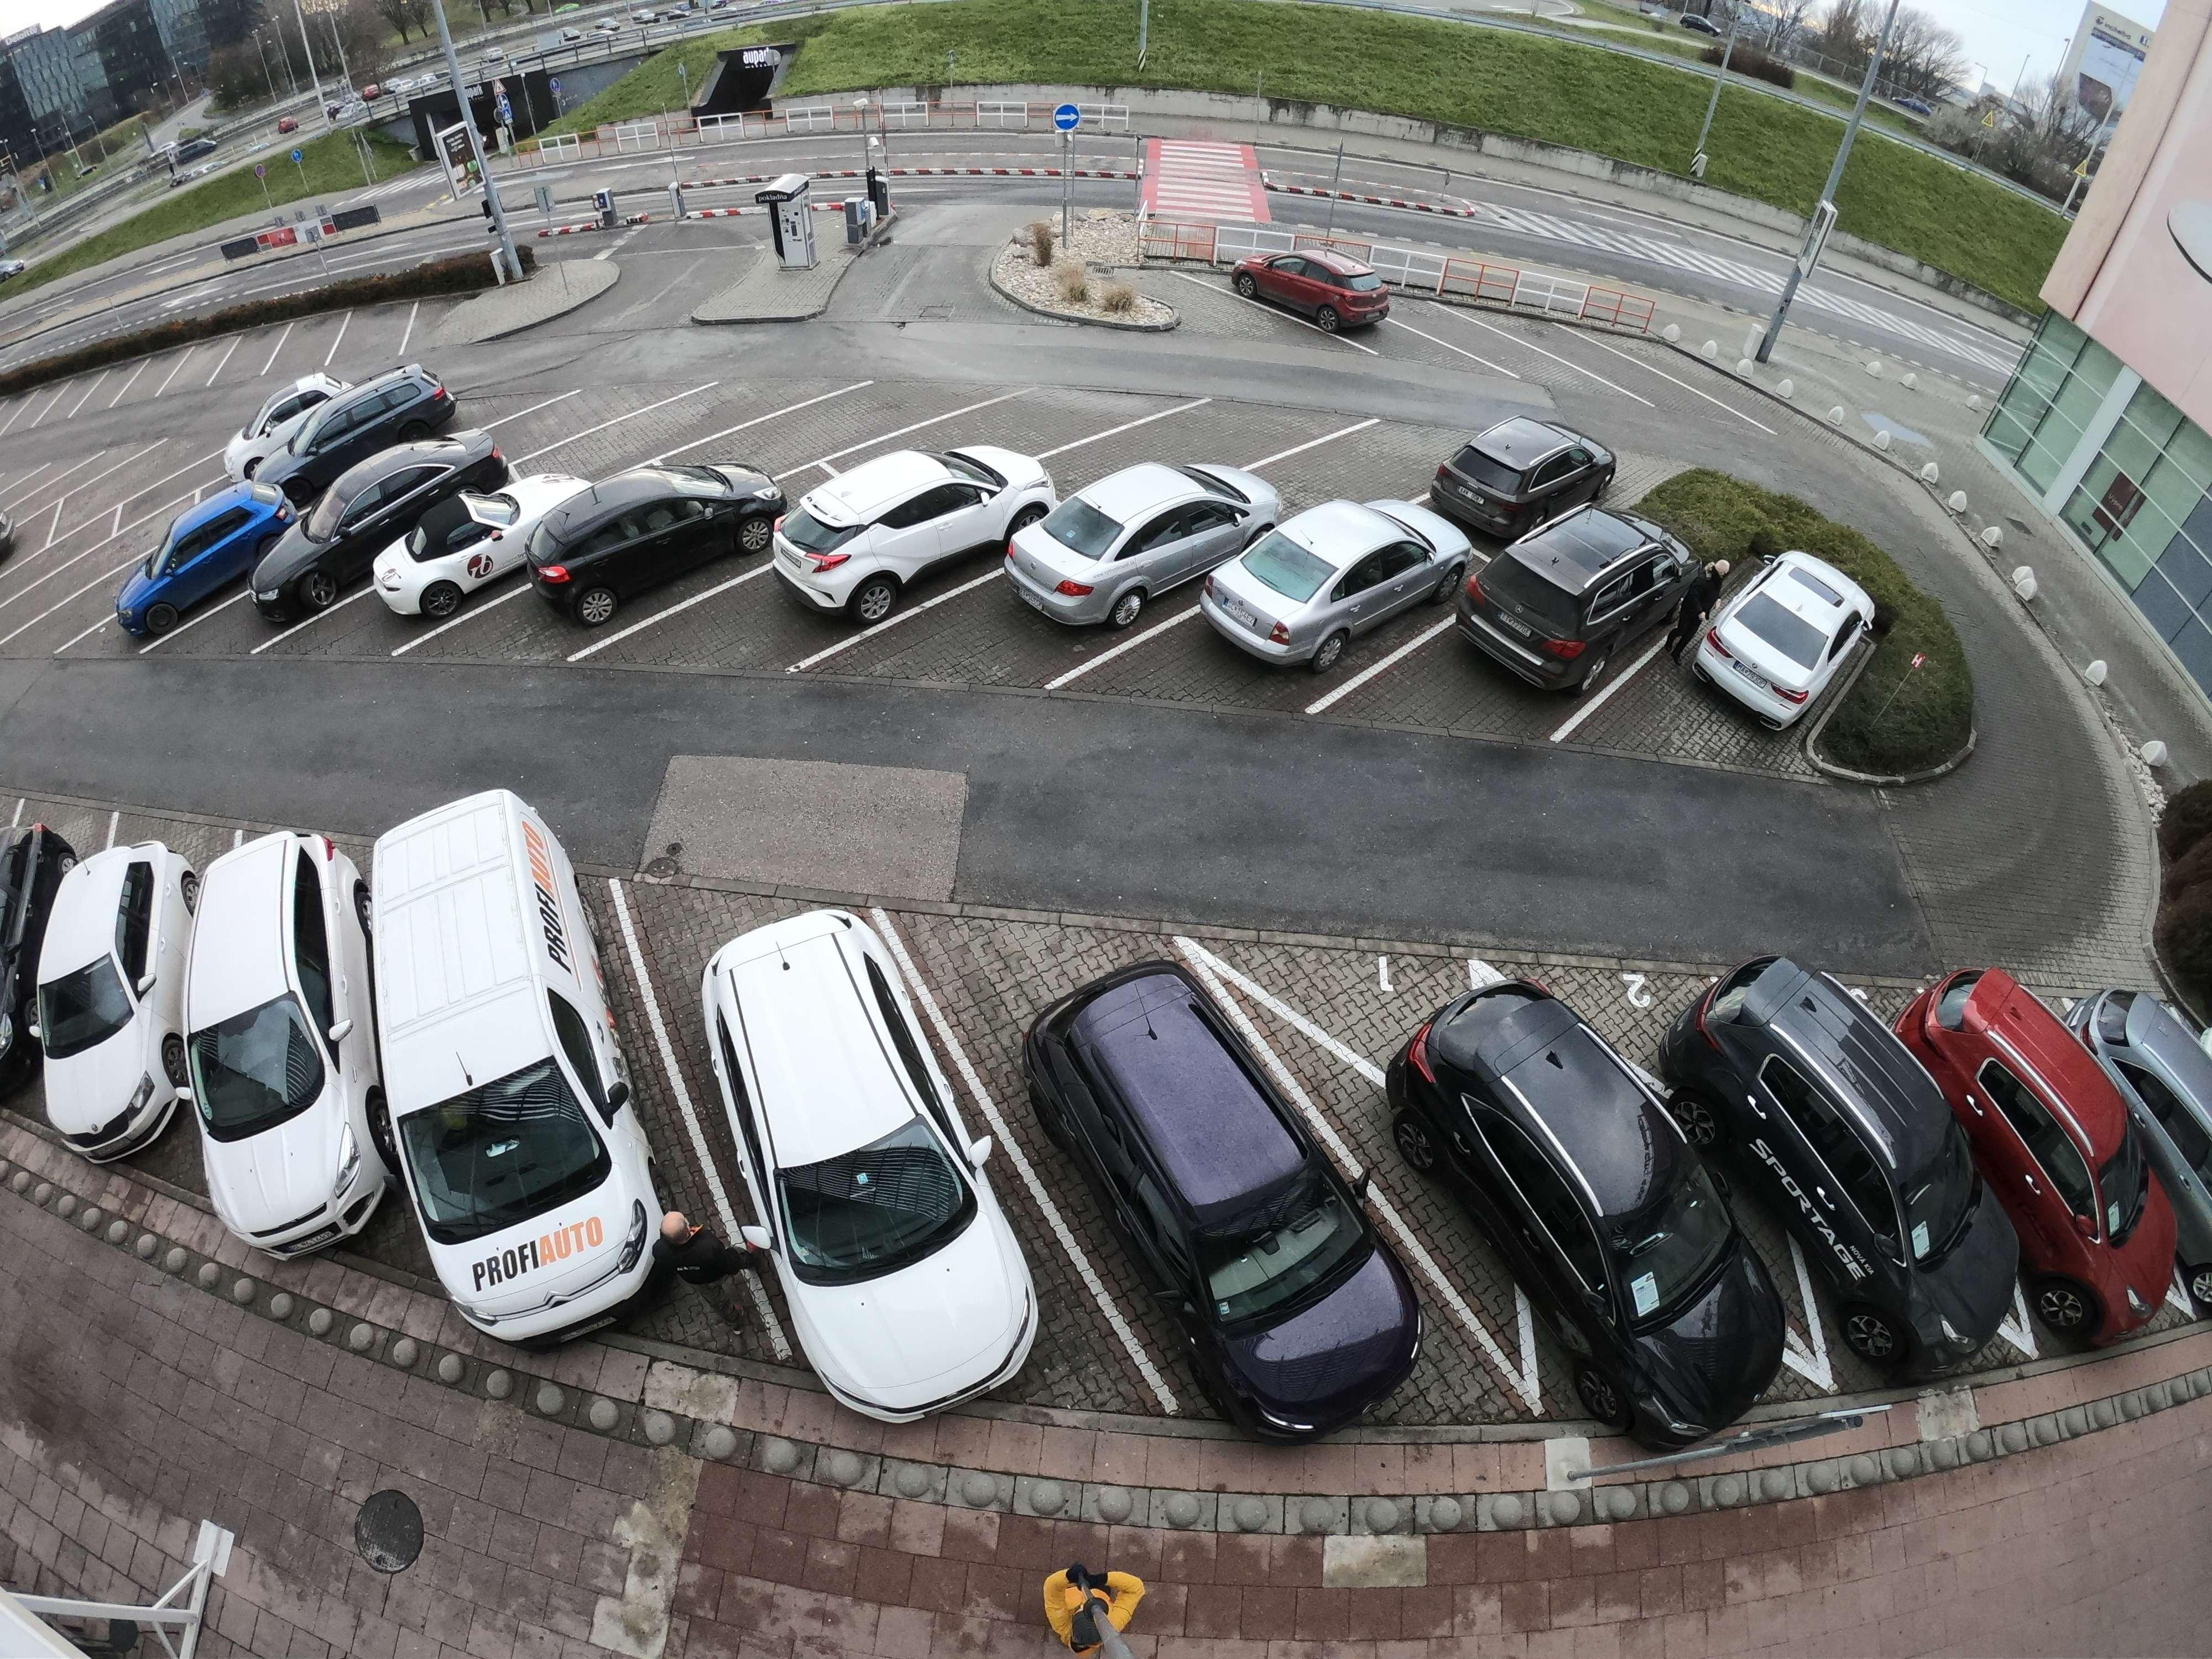empty: (336, 793, 662, 1351), (686, 885, 1031, 1401), (1045, 946, 1411, 1410), (1416, 964, 1743, 1408), (1714, 957, 1965, 1354), (164, 843, 373, 1239), (1952, 985, 2179, 1344), (9, 824, 176, 1145), (233, 364, 470, 573), (1446, 507, 1693, 694), (772, 432, 1019, 619), (996, 458, 1256, 633), (1195, 498, 1446, 674), (535, 448, 766, 617), (378, 469, 583, 626), (1696, 545, 1879, 721), (101, 477, 293, 640), (1442, 420, 1608, 530), (1224, 253, 1392, 336), (1038, 275, 1186, 338)
occupied: (1170, 382, 1270, 481), (631, 390, 725, 453), (1576, 317, 1651, 392), (1327, 443, 1428, 491), (1435, 291, 1507, 359), (772, 410, 864, 451), (998, 401, 1082, 444), (509, 410, 582, 444)
